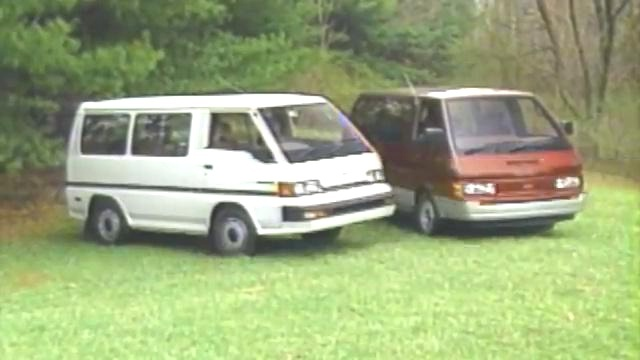van: (61, 92, 388, 260), (354, 83, 585, 230)
